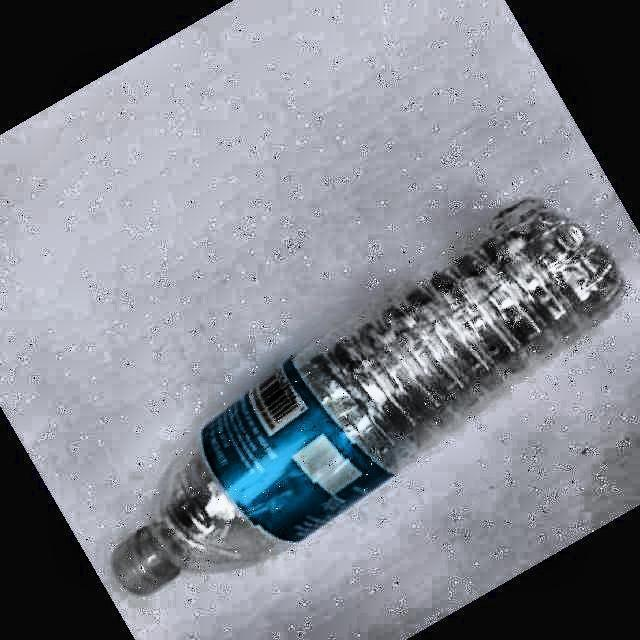plastic: (113, 201, 622, 594)
